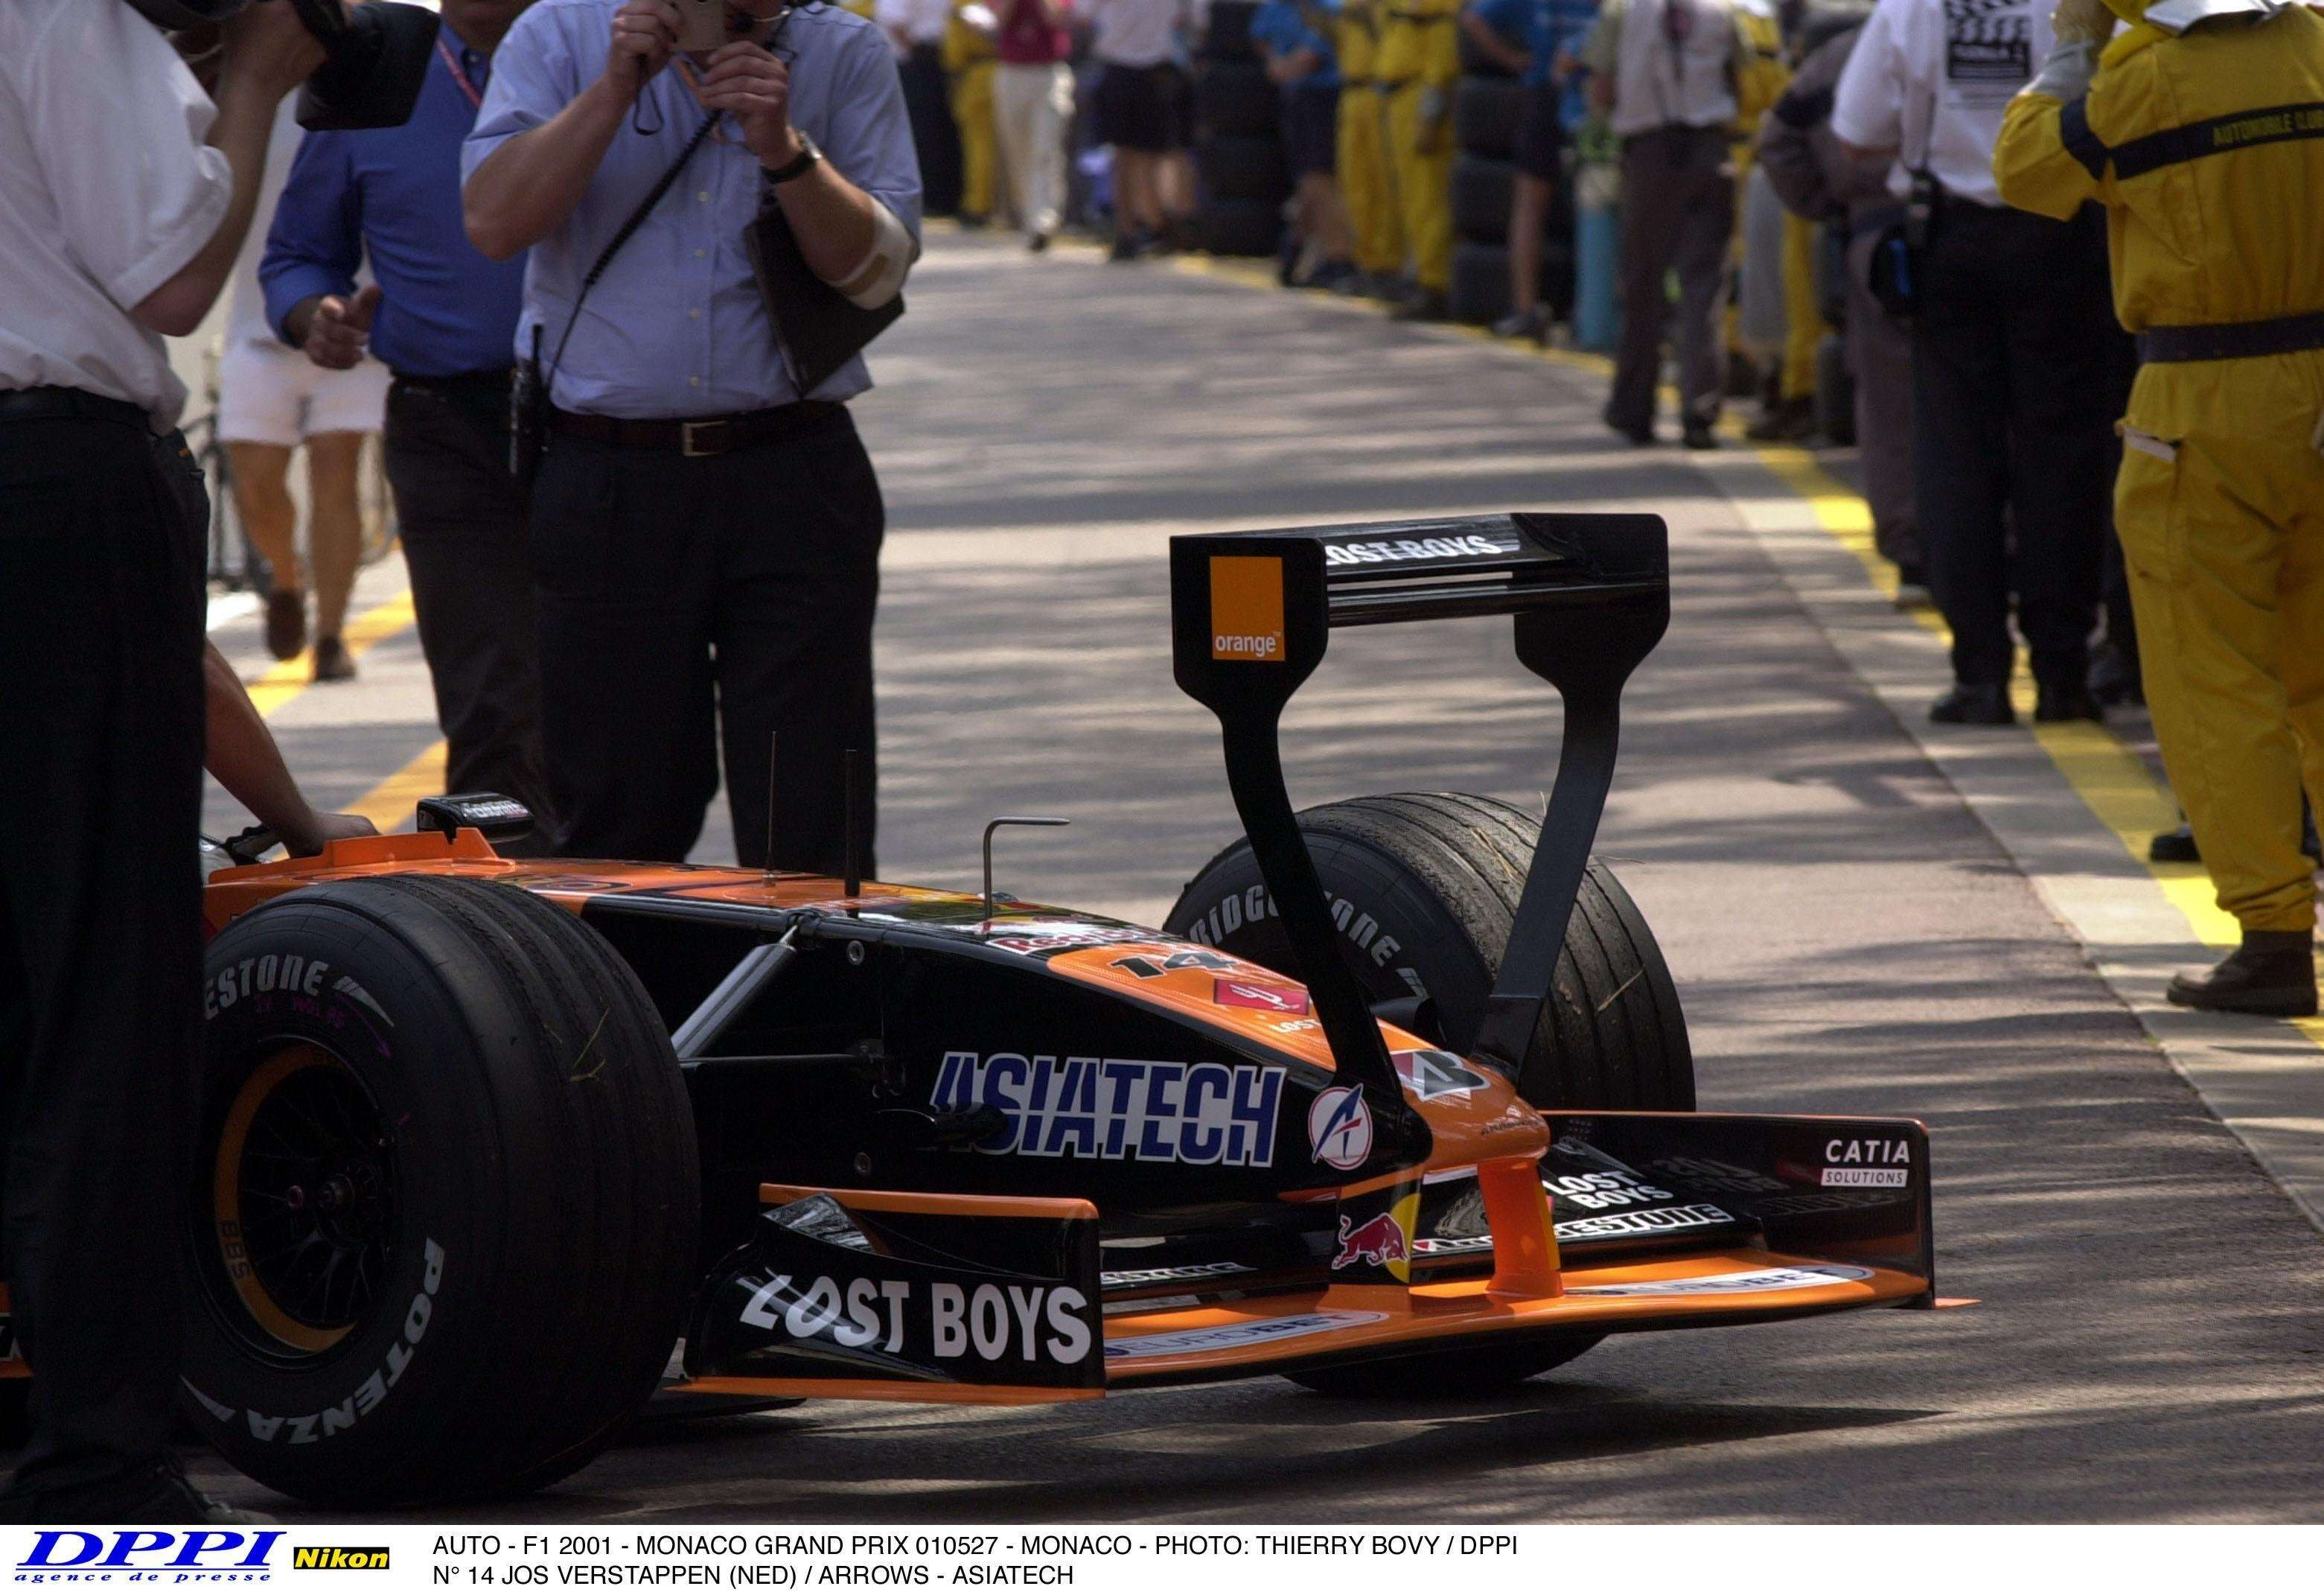f1_car: (207, 486, 2010, 1539)
